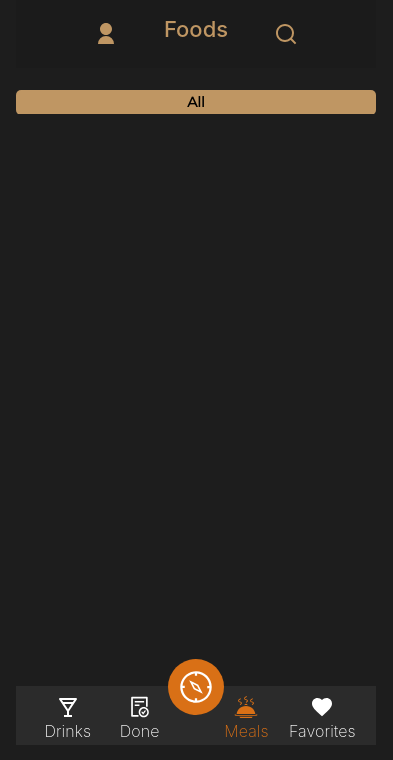
Test case: Redireciona para a tela de perfil ao clicar no botão de perfil › [Tela de Perfil]Testa se redireciona para o perfil ao clicar no botão
Step 1. Click the link with test id "profile-top-btn" → [106, 33], box left=94, top=20, right=118, bottom=46
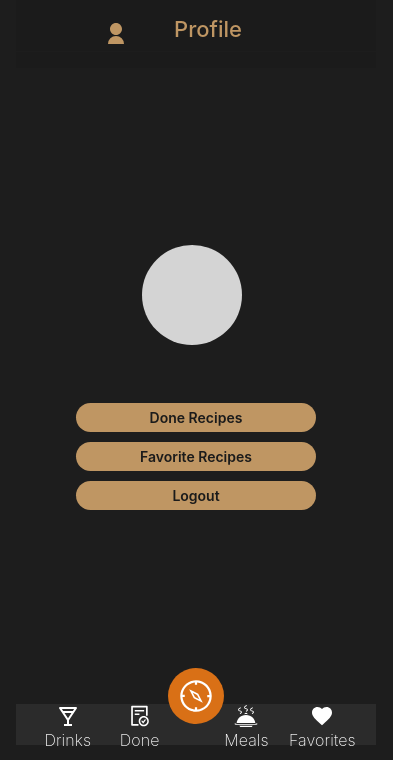
Result: the heading with test id "page-title" reads "Profile" at left=174, top=16, right=242, bottom=42
